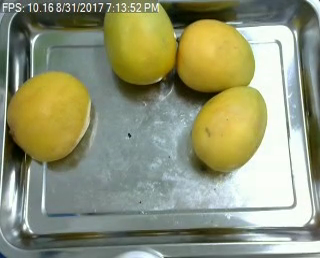Mango: (7, 69, 96, 164), (191, 86, 268, 171), (103, 2, 179, 85), (178, 20, 263, 90)
